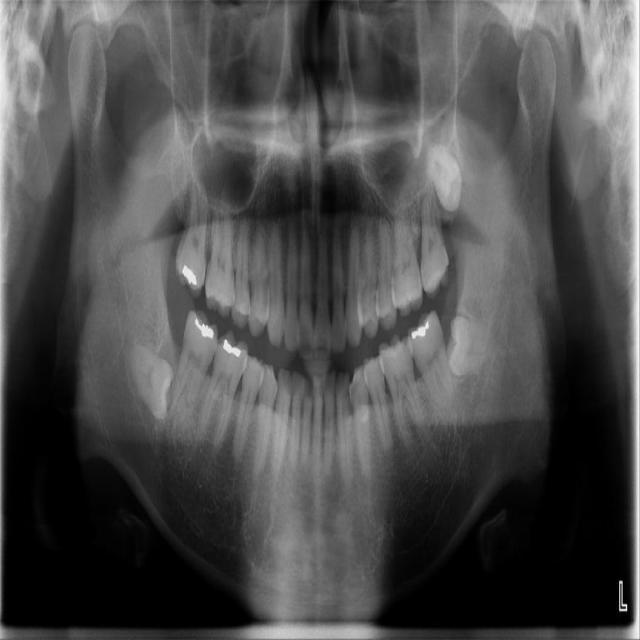52: (400, 308, 450, 364), (180, 307, 223, 361), (174, 238, 207, 299), (213, 329, 249, 382)
73: (627, 610, 633, 620)
BioHorizons Implant: (420, 183, 449, 301)
BioLife Implant: (415, 135, 476, 216)
Biomet 3i Implant: (443, 315, 496, 381)
Blue Sky Bio Implant: (402, 308, 459, 414)
Caries: (173, 167, 211, 298)
Implant: (170, 308, 223, 408)
Keystone Dental Implant: (127, 339, 185, 424)
